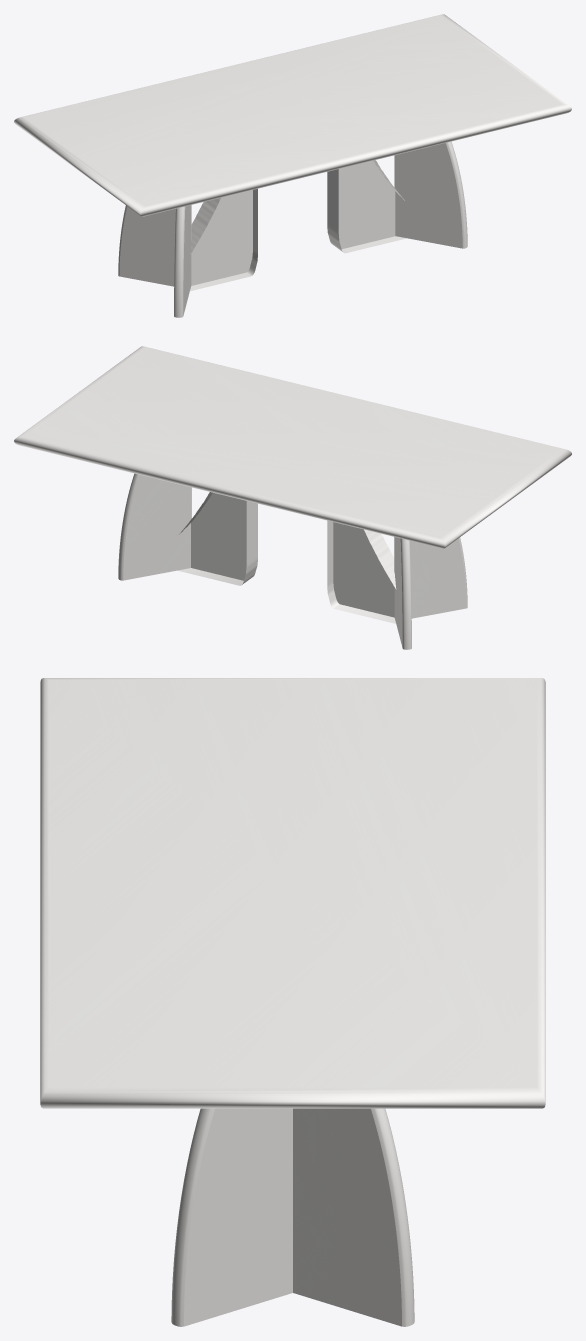
Rendered from purewhite_recta_round_plane.glb.
The picture shows the model from 3 angles, top to bottom: view 1: azimuth 30°, elevation 25°; view 2: azimuth 150°, elevation 25°; view 3: azimuth 270°, elevation 25°; orthographic projection. The views are drawn at different scales.
Visible parts, largest first — view 1: round_recta, plane_singleright2, plane_single1, plane_single2, plane_singleleft1, plane_singleright1; view 2: round_recta, plane_singleleft2, plane_single1, plane_single2, plane_singleright1, plane_singleleft1; view 3: round_recta, plane_singleleft2, plane_singleright2.
Boxes of the visible parts, <box> form: round_recta: <box>14,14,571,216</box>; plane_singleright2: <box>394,141,467,248</box>; plane_single1: <box>190,189,257,291</box>; plane_single2: <box>327,160,406,253</box>; plane_singleleft1: <box>118,205,191,286</box>; plane_singleright1: <box>174,205,191,317</box>; round_recta: <box>14,346,571,548</box>; plane_singleleft2: <box>118,473,191,580</box>; plane_single1: <box>327,520,396,623</box>; plane_single2: <box>178,492,257,585</box>; plane_singleright1: <box>394,537,467,618</box>; plane_singleleft1: <box>394,537,411,649</box>; round_recta: <box>40,678,545,1108</box>; plane_singleleft2: <box>293,1108,414,1326</box>; plane_singleright2: <box>171,1108,292,1326</box>.
Bounding box in the file's own units: 7.5 × 2.49 × 3.8.
Materials: 1 (1 with a texture image).
